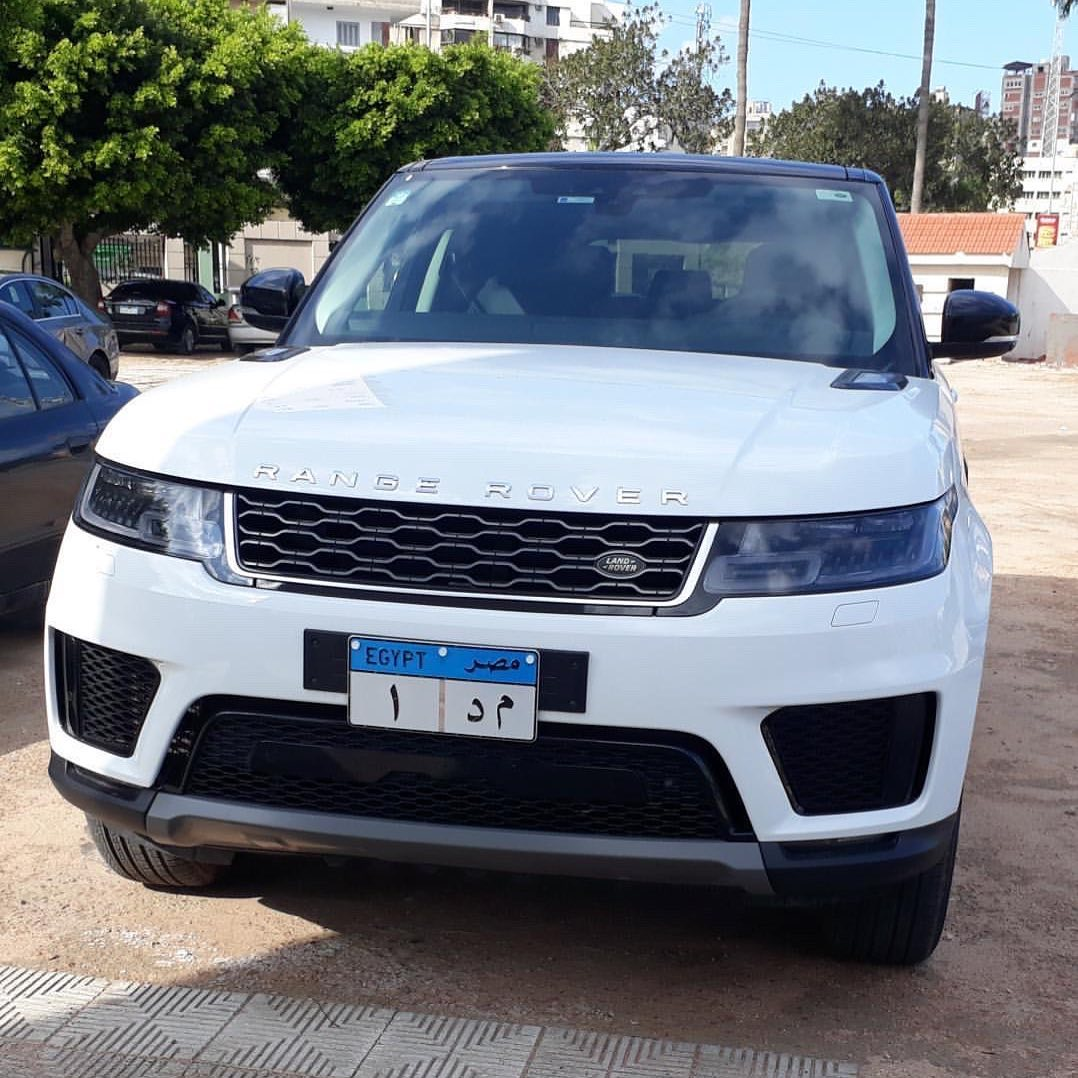carpl: (341, 624, 541, 760)
